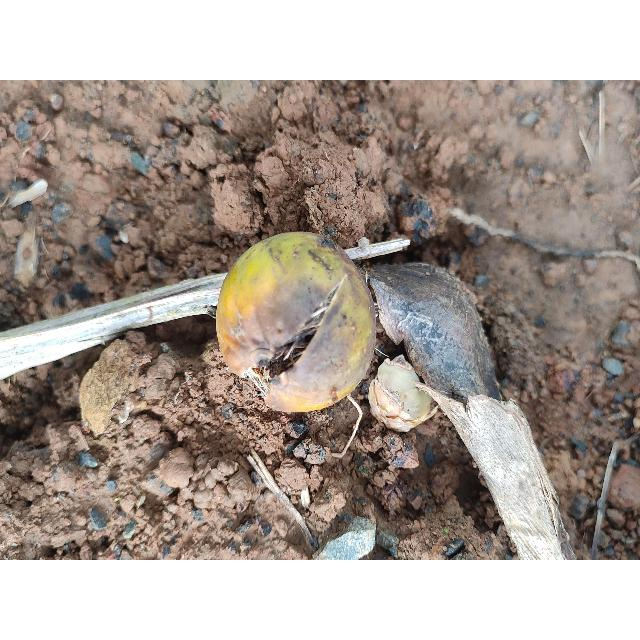damaged: (218, 235, 370, 413)
